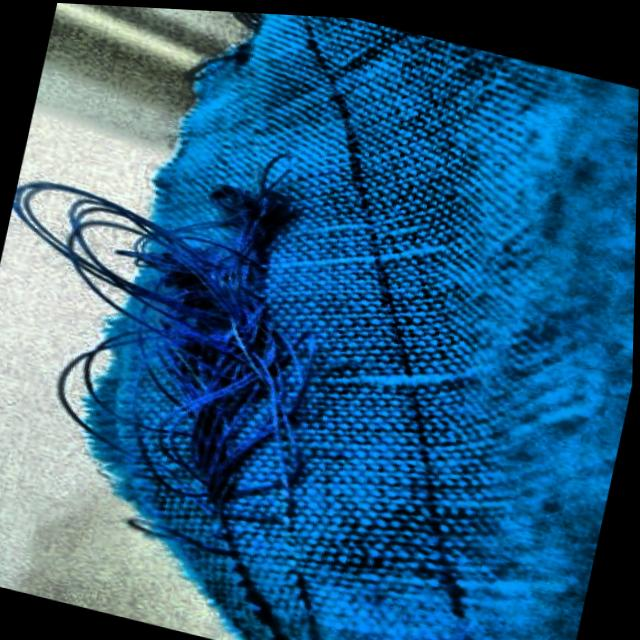Stitch: (0, 89, 425, 602)
